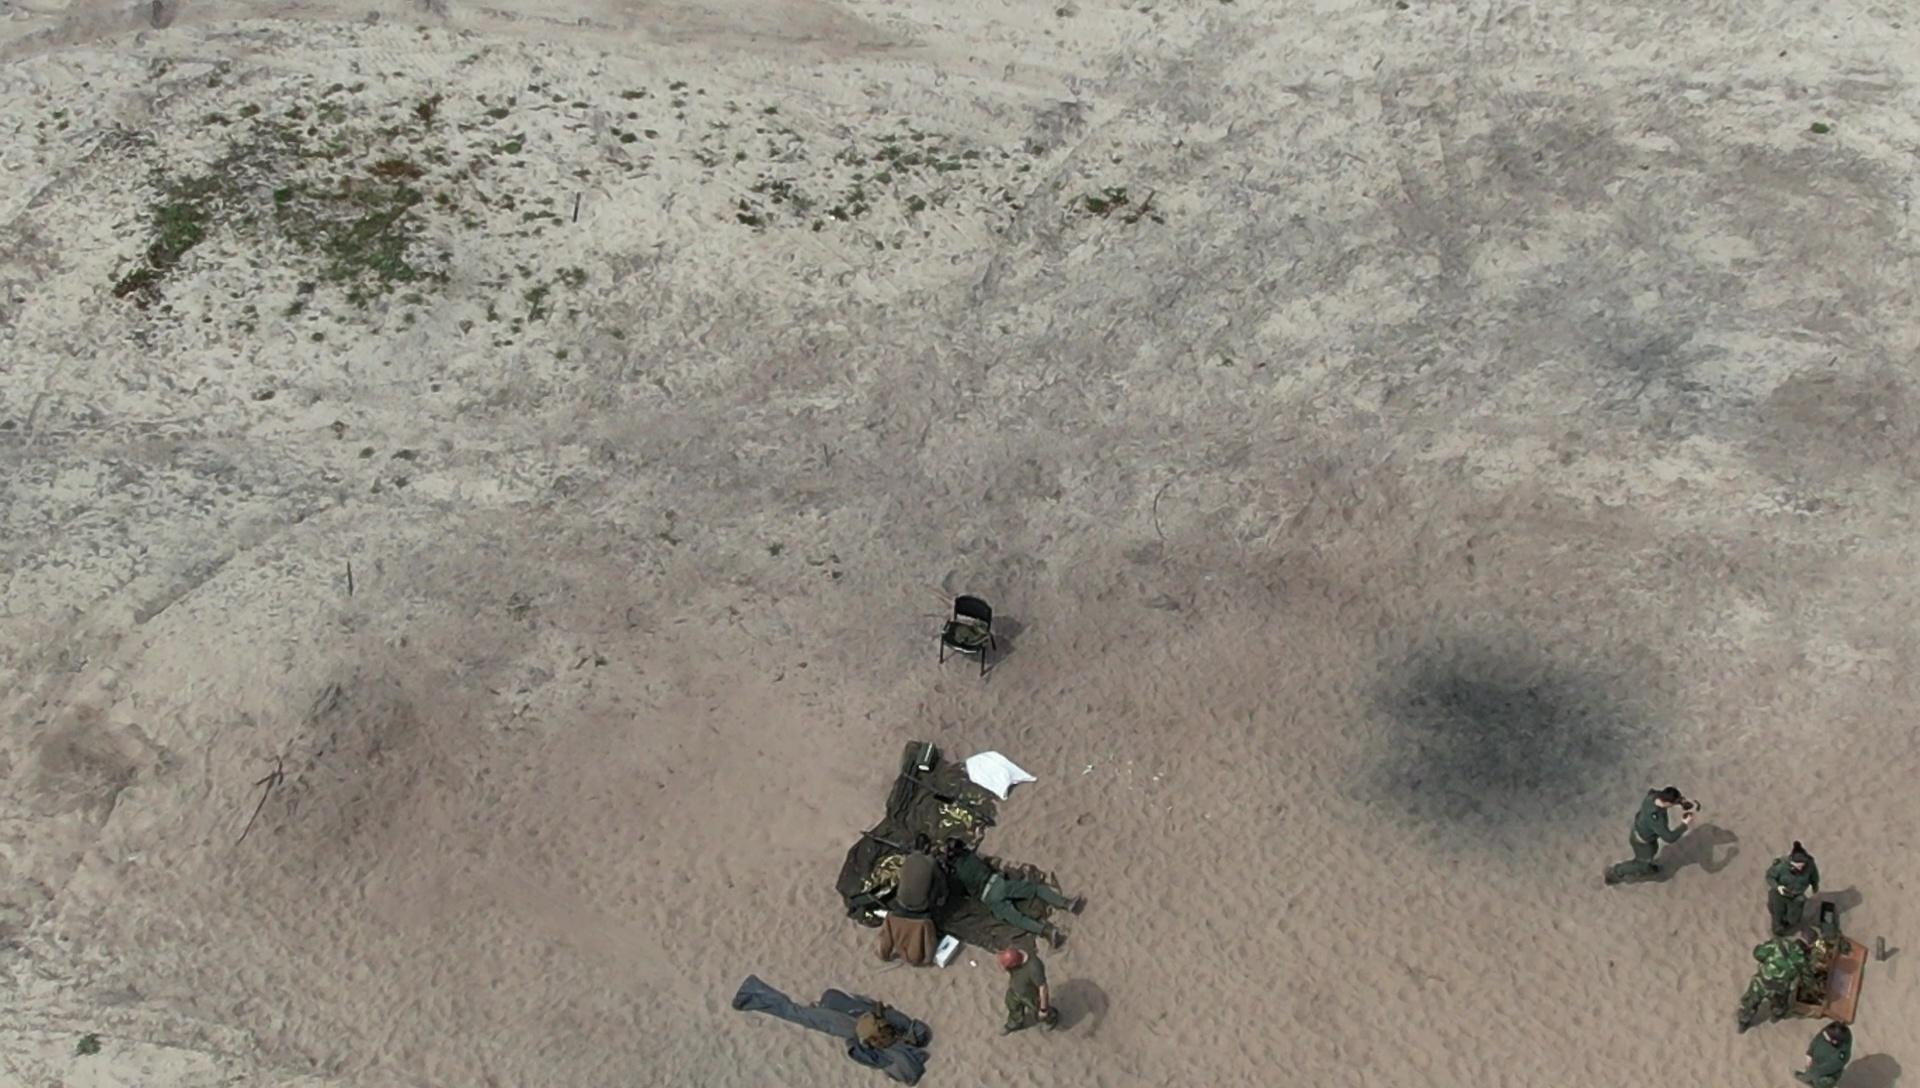Soldier: (938, 833, 1093, 961), (1600, 768, 1710, 924), (978, 930, 1079, 1064), (1730, 924, 1826, 1034), (1759, 837, 1842, 930), (1768, 1014, 1859, 1088), (890, 830, 943, 948)
